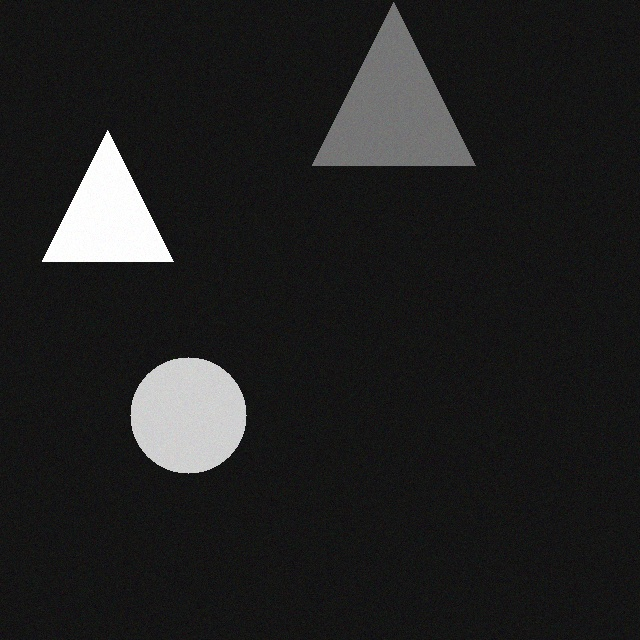circle: (145, 365, 261, 481)
triangle: (327, 10, 490, 173), (57, 138, 188, 269)
